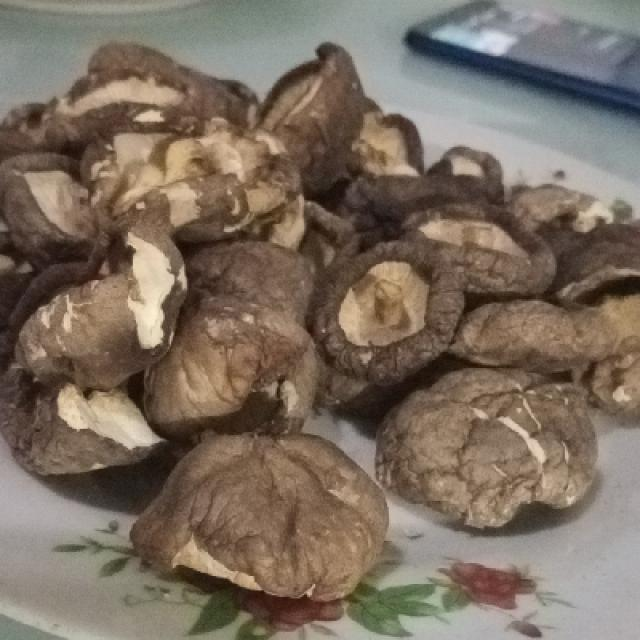Lentinus edodes: (0, 35, 640, 599)
